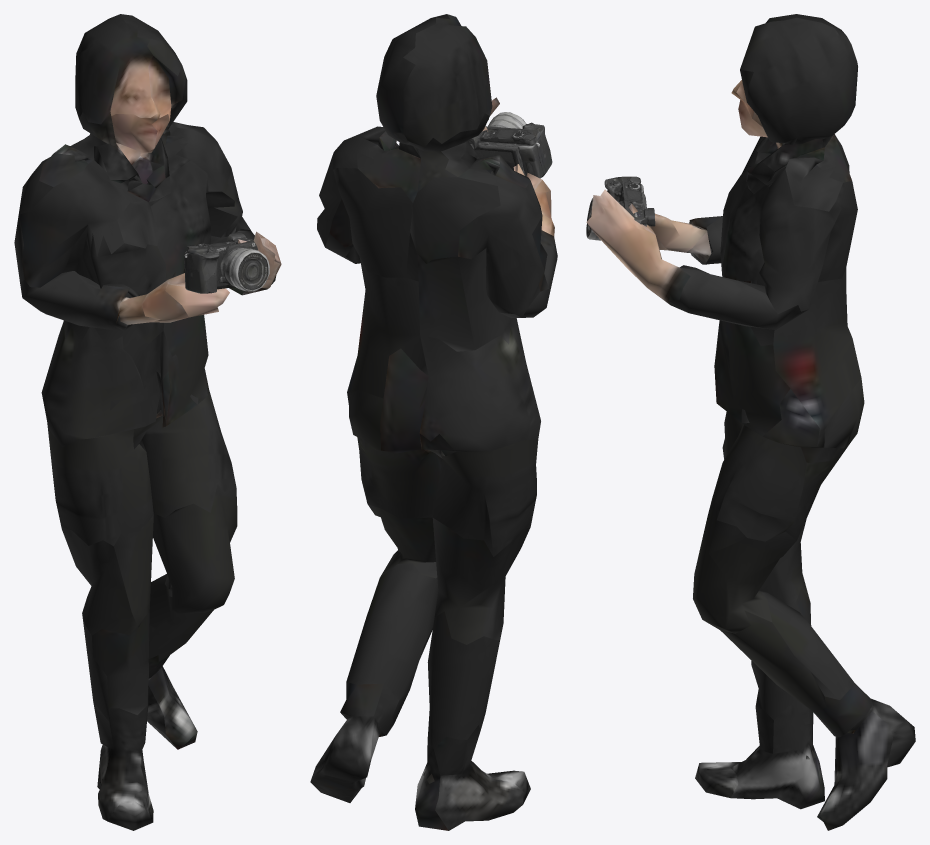
Rendered from polwan_humas_idle_lod2.glb.
3 renders of one model, left to right at view 1: azimuth 30°, elevation 25°; view 2: azimuth 150°, elevation 25°; view 3: azimuth 270°, elevation 25°, orthographic. The views are drawn at different scales.
Parts seen in each view (by area): view 1: tripo_node_a2126b0e-582a-493f-b6e2-f8663286ce1a; view 2: tripo_node_a2126b0e-582a-493f-b6e2-f8663286ce1a; view 3: tripo_node_a2126b0e-582a-493f-b6e2-f8663286ce1a.
Boxes of the visible parts, x1,y1,x2,y2 form: tripo_node_a2126b0e-582a-493f-b6e2-f8663286ce1a: (14,14,281,830); tripo_node_a2126b0e-582a-493f-b6e2-f8663286ce1a: (310,14,557,830); tripo_node_a2126b0e-582a-493f-b6e2-f8663286ce1a: (586,14,915,830).
Bounding box in the file's own units: 0.3016 × 0.9916 × 0.3768.
Materials: 2 (2 with a texture image).
